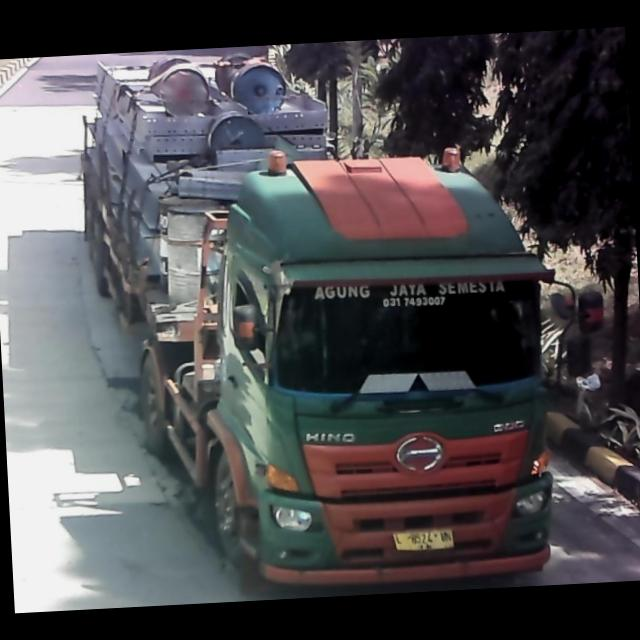plate: (391, 525, 456, 553)
